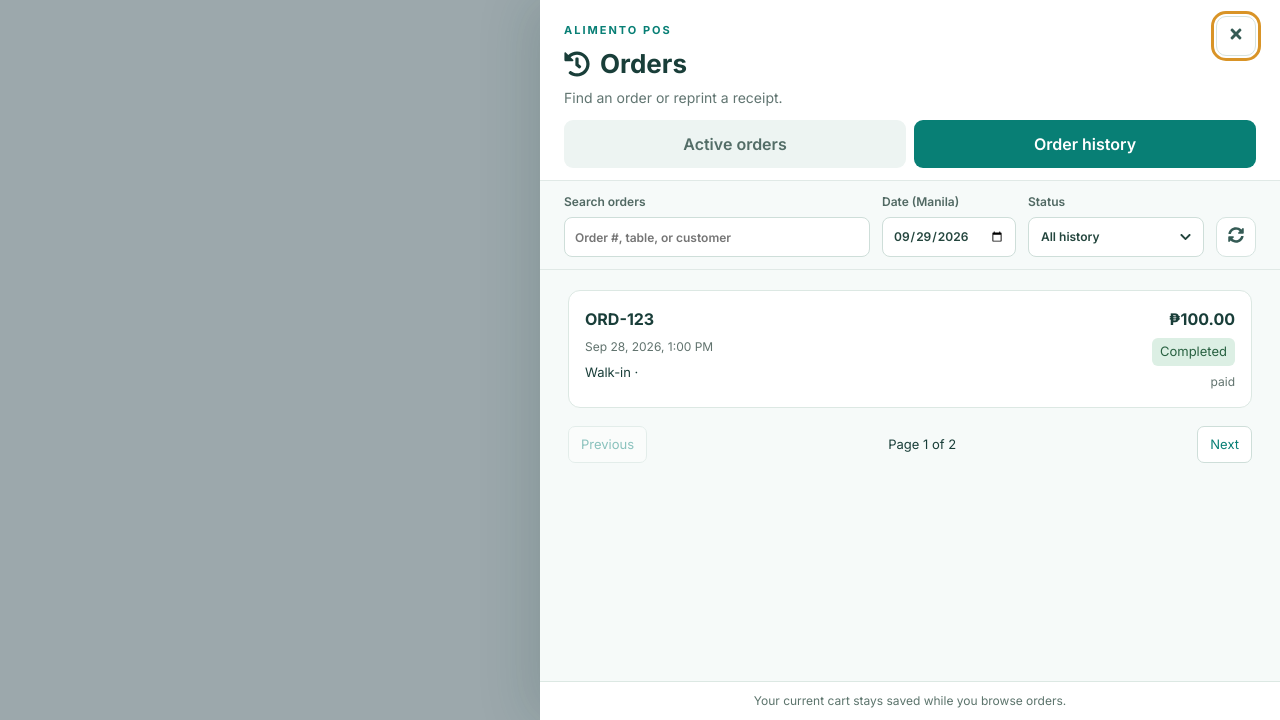
it: Escape and outside clicks dismiss the status menu without closing Orders
Check: the text "ORD-123" is shown, box 585,309 -> 654,329
Click the button named "Status All history" at (1116, 237), box 1028,217 -> 1204,257
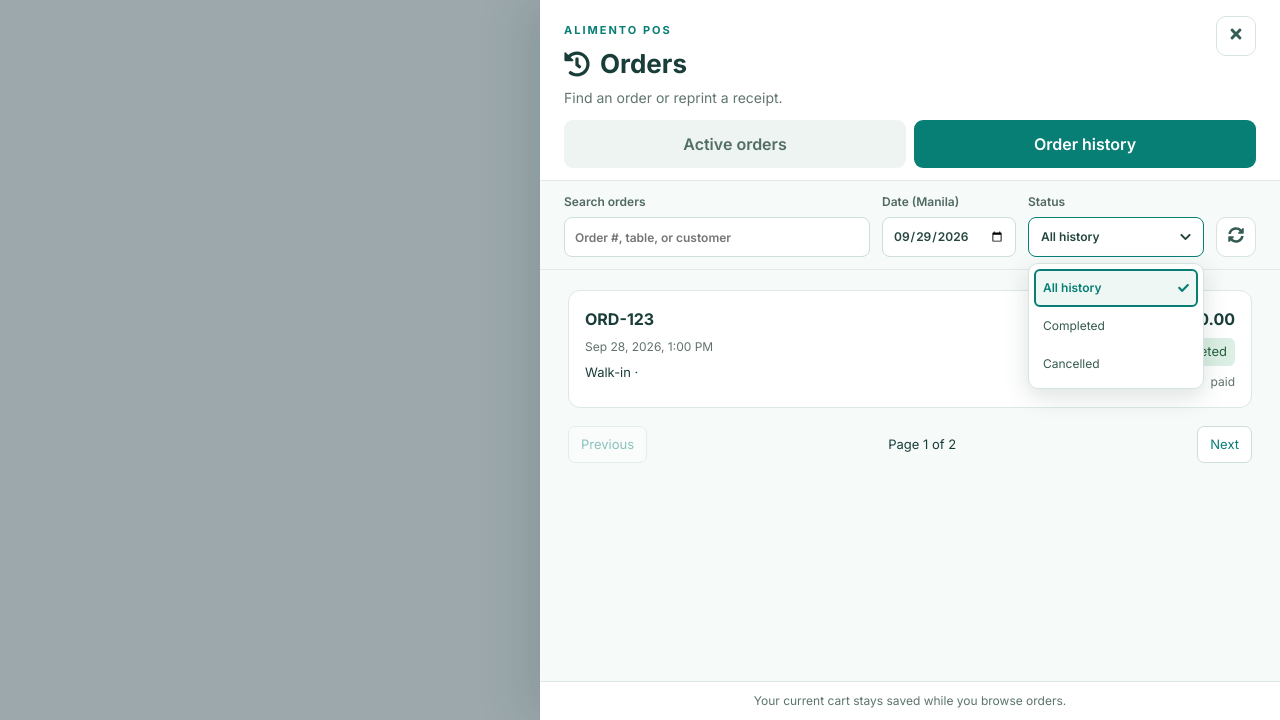
Press Escape in the option "All history", box 1034,269 -> 1198,307
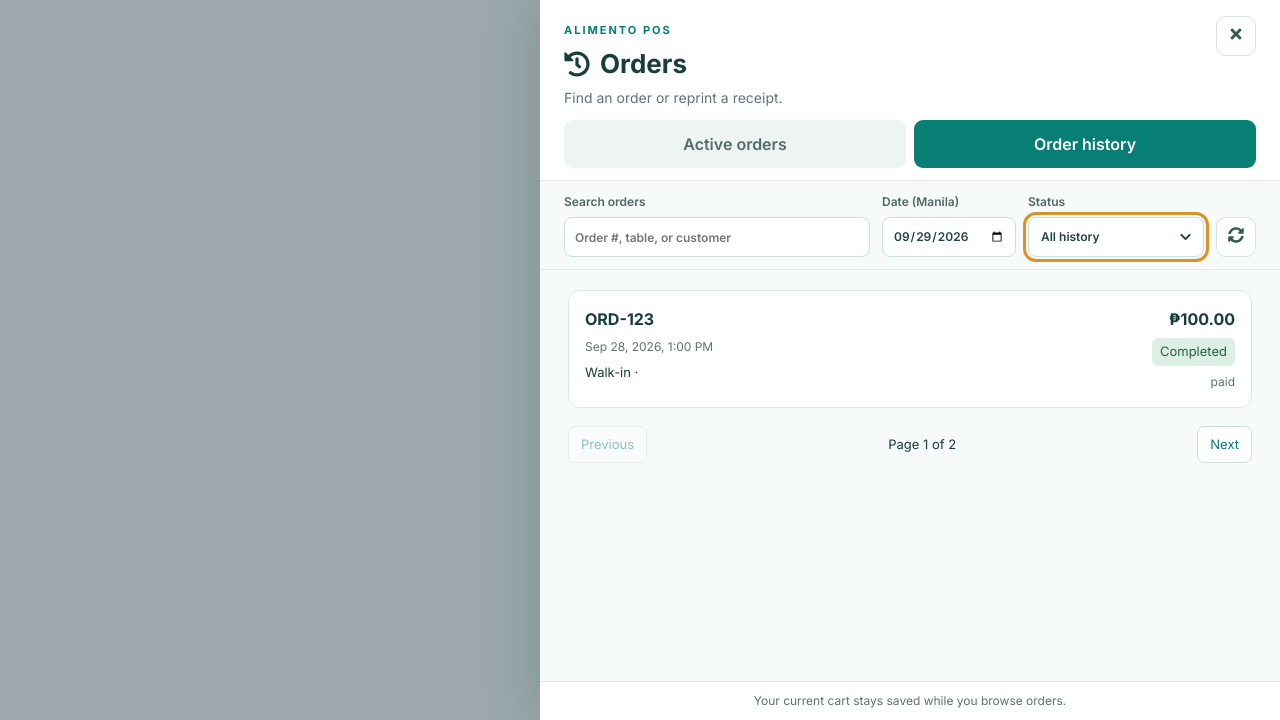
Click the button named "Status All history" at (1116, 237), box 1028,217 -> 1204,257
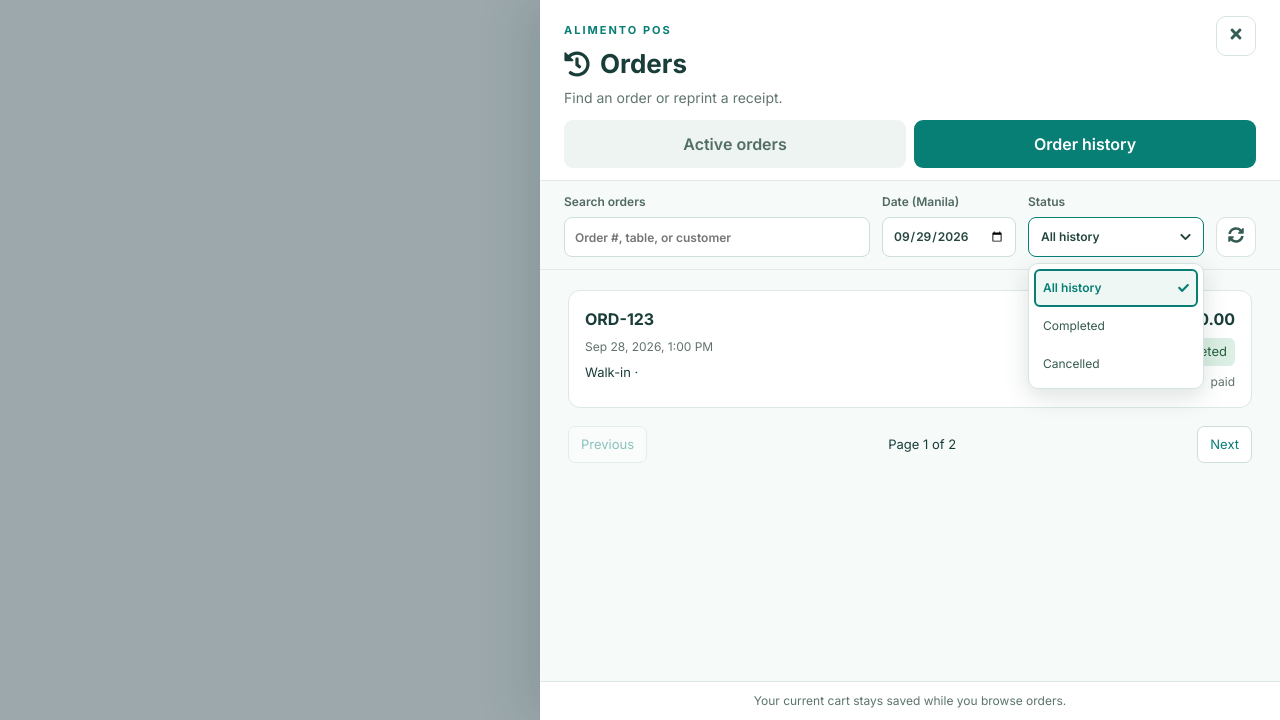
Press the mouse on the heading "Orders" at (626, 64), box 564,48 -> 687,79
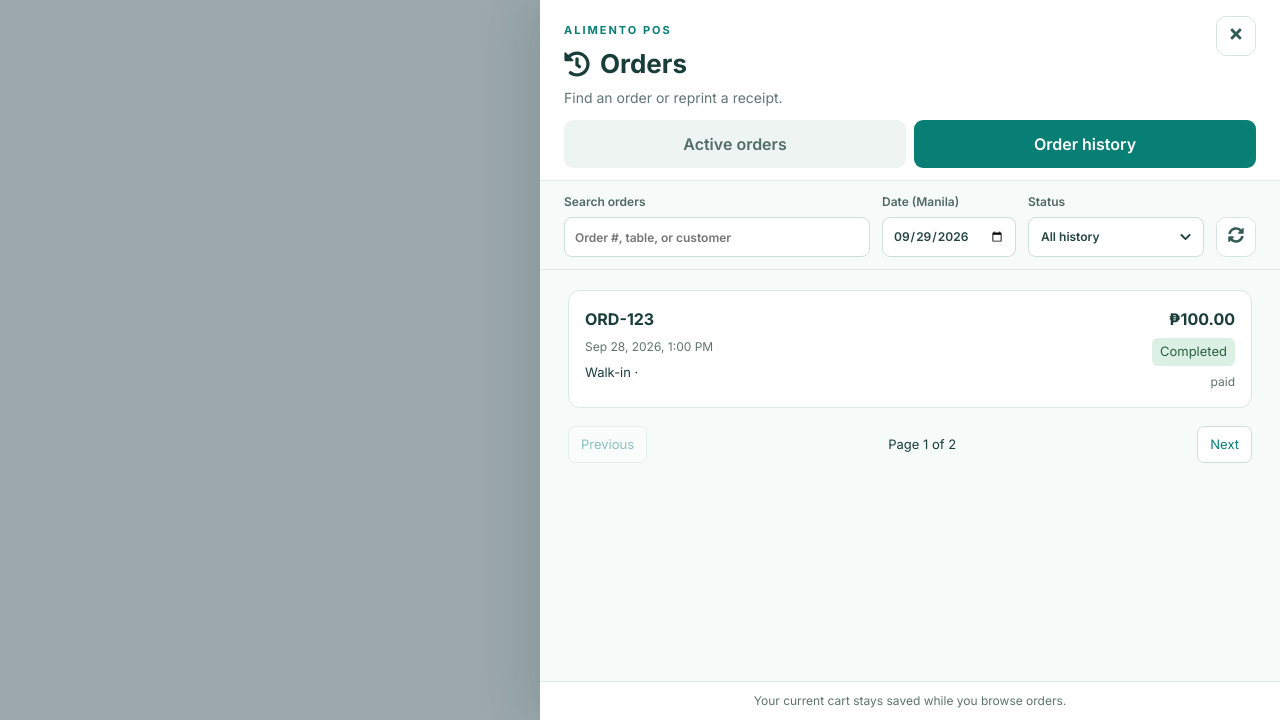
Check: the list is gone
